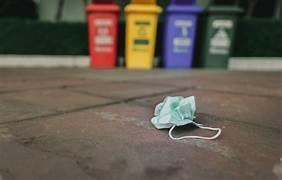Mask: (151, 96, 220, 139)
